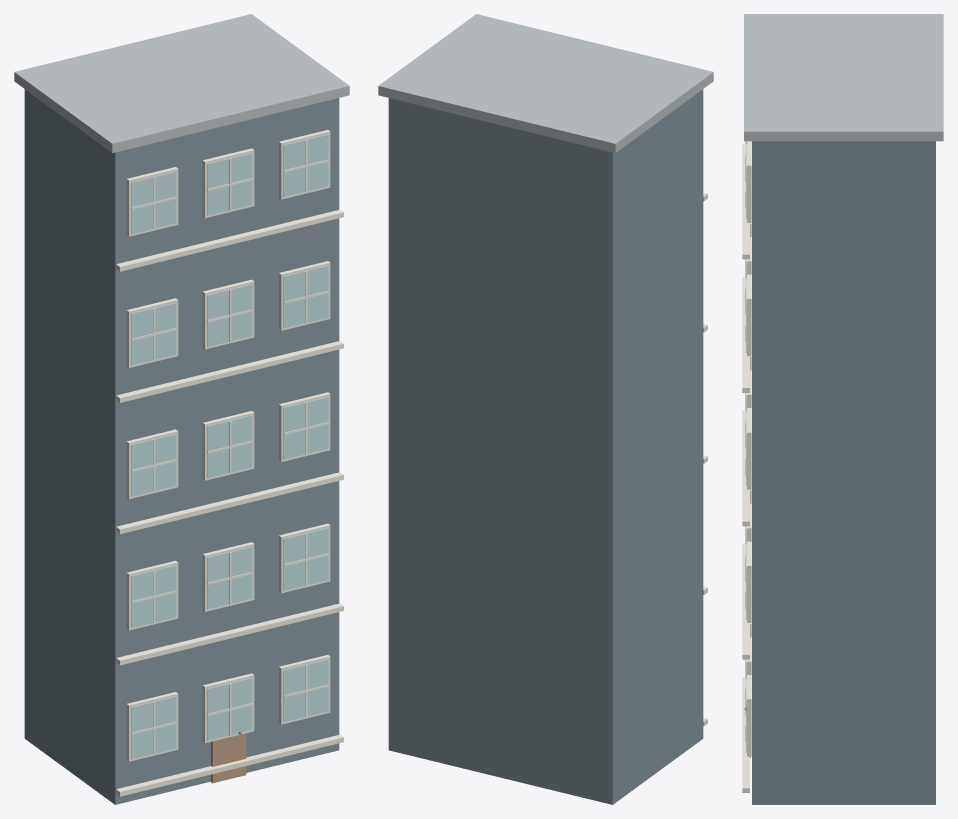
File: office.glb
The picture shows the model from 3 angles, left to right: view 1: azimuth 30°, elevation 25°; view 2: azimuth 150°, elevation 25°; view 3: azimuth 270°, elevation 25°; orthographic projection.
Parts seen in each view (by area): view 1: office_000, office_001, office_039, office_026, office_052, office_013, office_065, office_022, office_005, office_044, office_057, office_031 (+26 smaller); view 2: office_000, office_001; view 3: office_000, office_001, office_042, office_029, office_068, office_055, office_016, office_051, office_012, office_025, office_038, office_064.
Part boxes in pixels (<box>): office_000: <box>24,89,339,804</box>; office_001: <box>14,14,349,152</box>; office_039: <box>283,397,328,459</box>; office_026: <box>283,528,328,590</box>; office_052: <box>283,265,328,328</box>; office_013: <box>283,659,328,721</box>; office_065: <box>283,134,328,196</box>; office_022: <box>207,546,252,609</box>; office_005: <box>131,696,176,759</box>; office_044: <box>131,303,176,365</box>; office_057: <box>131,171,176,234</box>; office_031: <box>131,434,176,496</box>; office_000: <box>388,89,703,804</box>; office_001: <box>378,14,713,152</box>; office_000: <box>752,141,935,804</box>; office_001: <box>744,14,943,141</box>; office_042: <box>742,410,749,526</box>; office_029: <box>742,543,749,659</box>; office_068: <box>742,143,749,259</box>; office_055: <box>742,277,749,392</box>; office_016: <box>742,677,749,792</box>; office_051: <box>747,274,751,356</box>; office_012: <box>747,675,751,756</box>; office_025: <box>747,541,751,622</box>; office_038: <box>747,408,751,489</box>; office_064: <box>747,141,751,222</box>.
Size of the model in its own units: 5.3 by 14.2 by 3.83.
